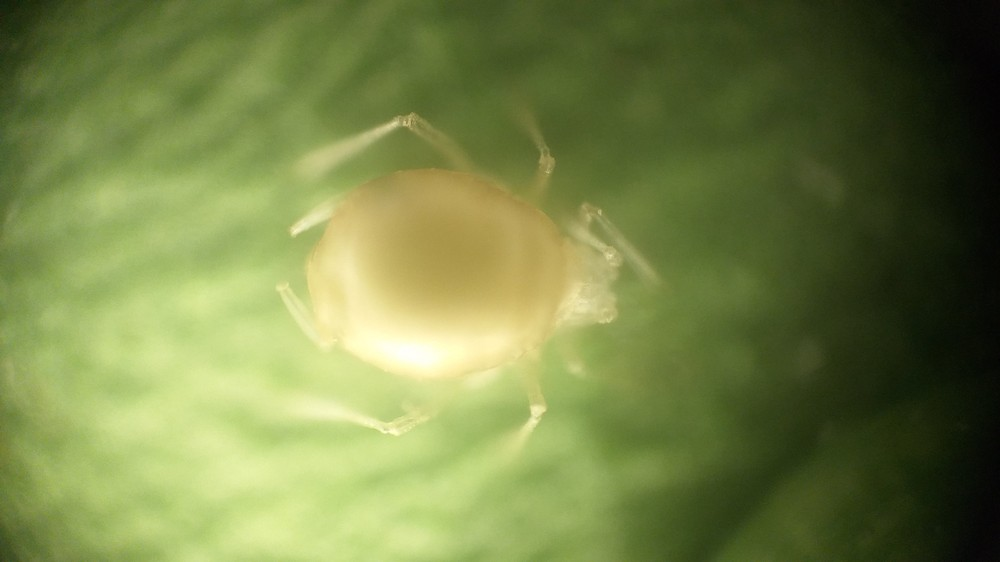Pulgon: (260, 78, 702, 493)
